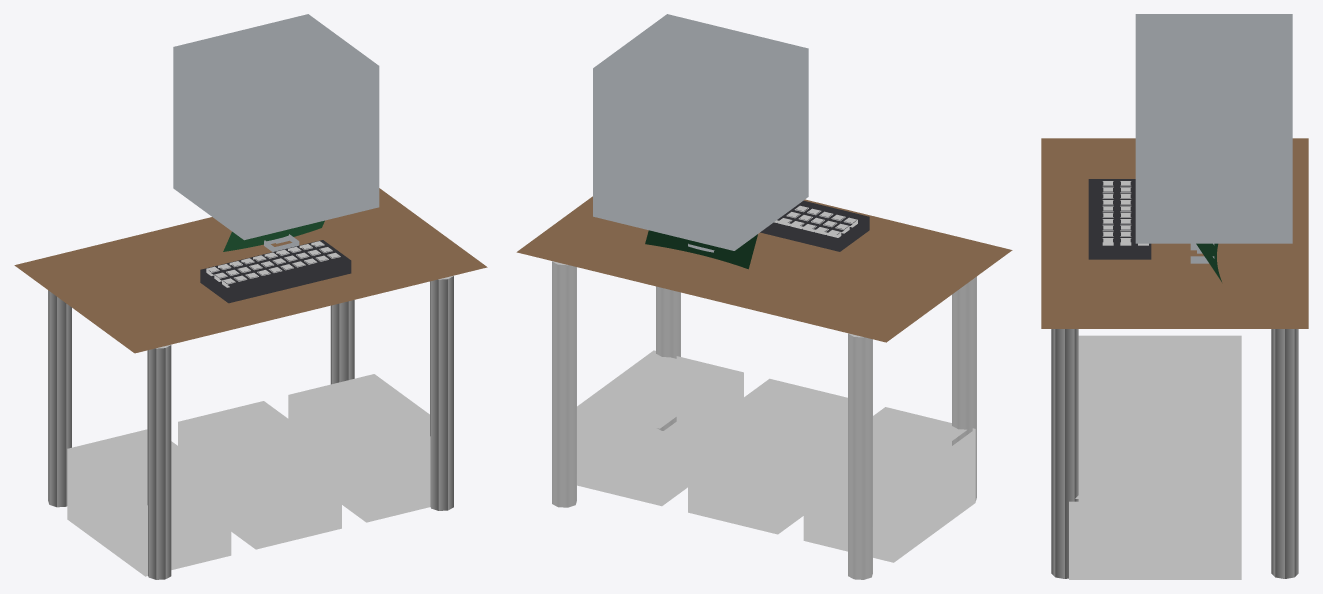
Rendered from garage-desk-crt.obj.
The picture shows the model from 3 angles, left to right: view 1: azimuth 30°, elevation 25°; view 2: azimuth 150°, elevation 25°; view 3: azimuth 270°, elevation 25°; orthographic projection. The views are drawn at different scales.
Visible parts, largest first — view 1: garage-desk-crt; view 2: garage-desk-crt; view 3: garage-desk-crt.
Part boxes in pixels (x1,y1,x2,y2): garage-desk-crt: (14, 14, 487, 579); garage-desk-crt: (516, 14, 1012, 579); garage-desk-crt: (1041, 14, 1308, 579).
Bounding box in the file's own units: 1.15 × 1.32 × 0.68.
